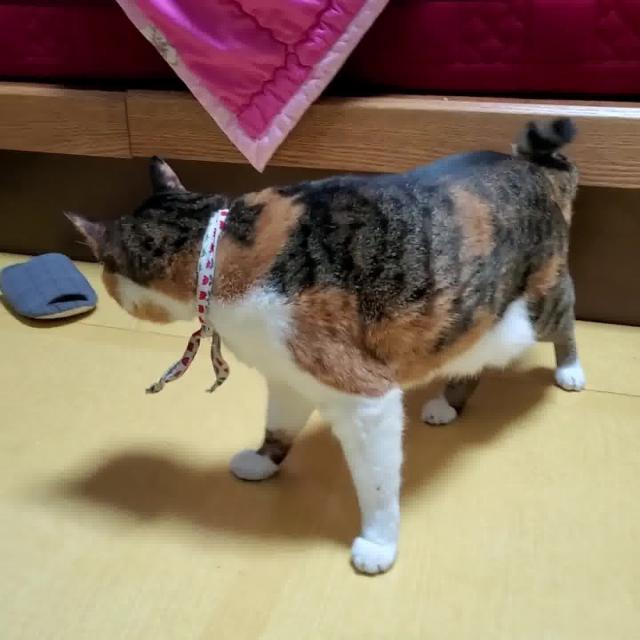cat: (57, 114, 589, 578)
